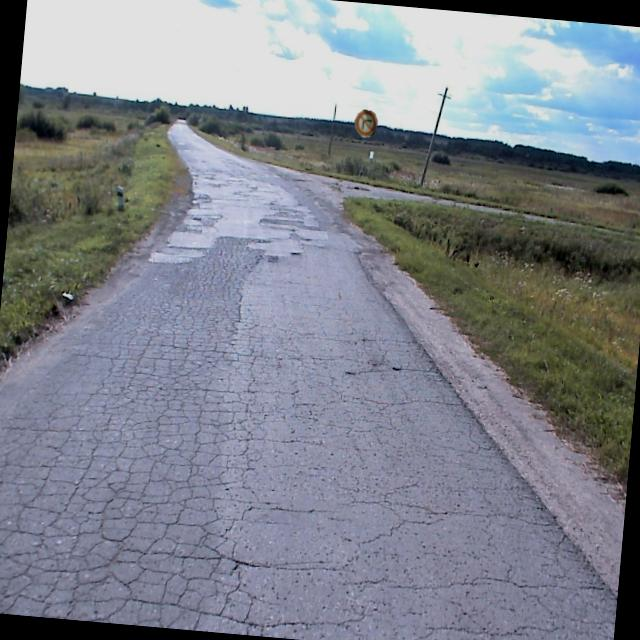road: (0, 123, 616, 640)
